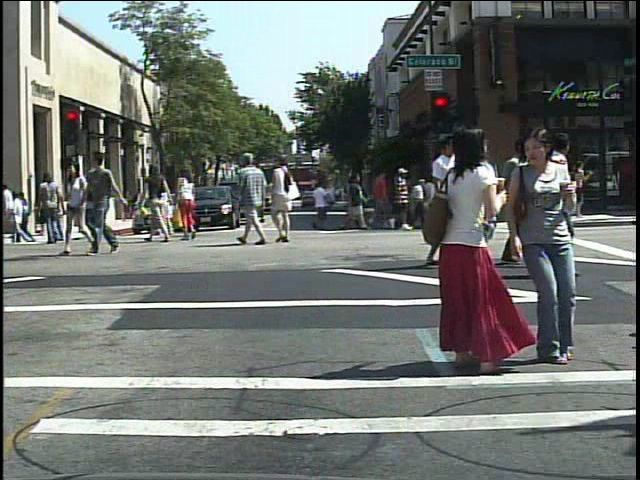person: (432, 123, 518, 378), (510, 123, 587, 368), (425, 130, 486, 274), (491, 132, 547, 271), (545, 129, 595, 280), (472, 138, 520, 247), (88, 147, 128, 258), (56, 160, 96, 259), (232, 148, 270, 246), (270, 151, 299, 247), (175, 165, 205, 241), (144, 164, 172, 245), (79, 168, 104, 246), (39, 172, 64, 247), (485, 164, 512, 233), (387, 166, 413, 234)
